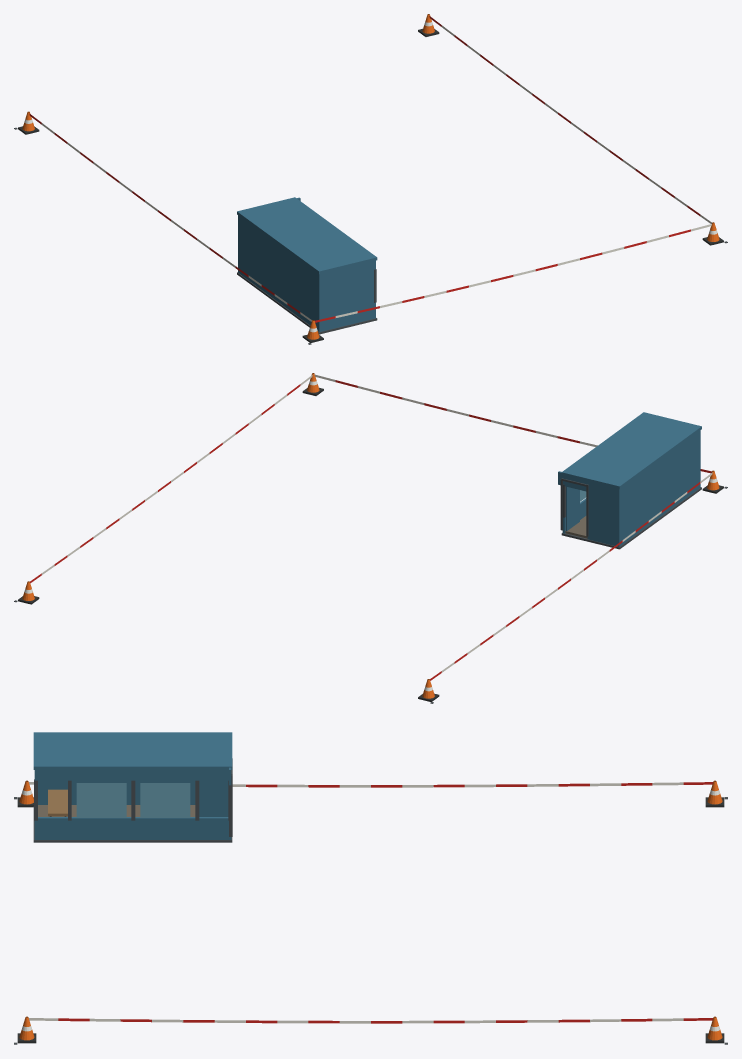
File: HomebaseOpenParking_LOD00.gltf
3 renders of one model, top to bottom at view 1: azimuth 30°, elevation 25°; view 2: azimuth 150°, elevation 25°; view 3: azimuth 270°, elevation 25°, orthographic. The views are drawn at different scales.
Parts seen in each view (by area): view 1: HomebaseOpenParking_node; view 2: HomebaseOpenParking_node; view 3: HomebaseOpenParking_node.
Part boxes in pixels (x1=…): HomebaseOpenParking_node: x1=14, y1=14, x2=727, y2=344; HomebaseOpenParking_node: x1=14, y1=373, x2=727, y2=703; HomebaseOpenParking_node: x1=14, y1=732, x2=727, y2=1044.
Size of the model in its own units: 18 by 2.59 by 22.
